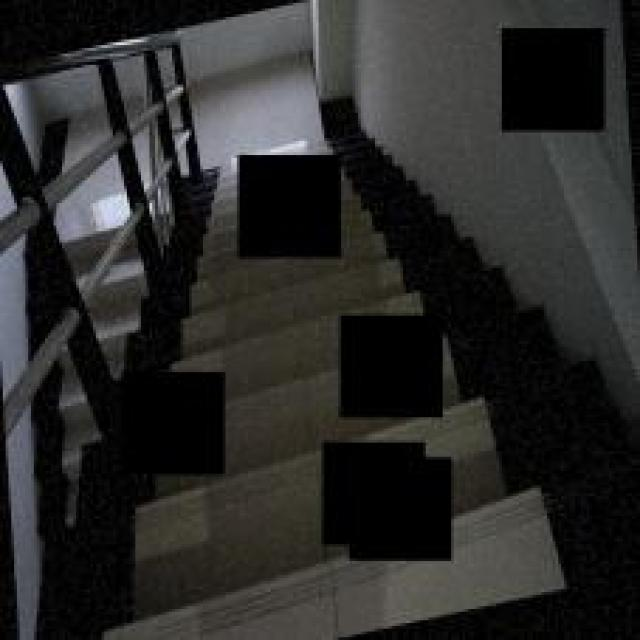downstair: (189, 265, 327, 367)
